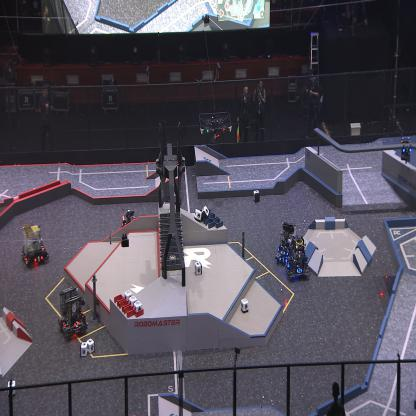car: (57, 285, 88, 340), (20, 224, 50, 267), (284, 234, 311, 279), (275, 222, 297, 265), (121, 209, 138, 235)
